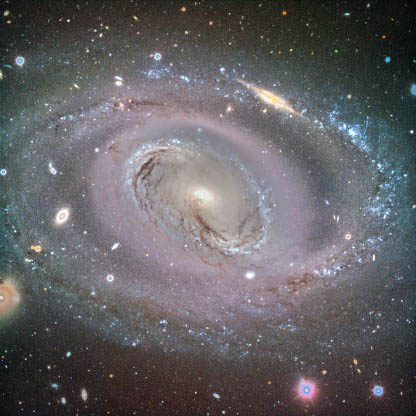Messier 96: (4, 39, 410, 351)
